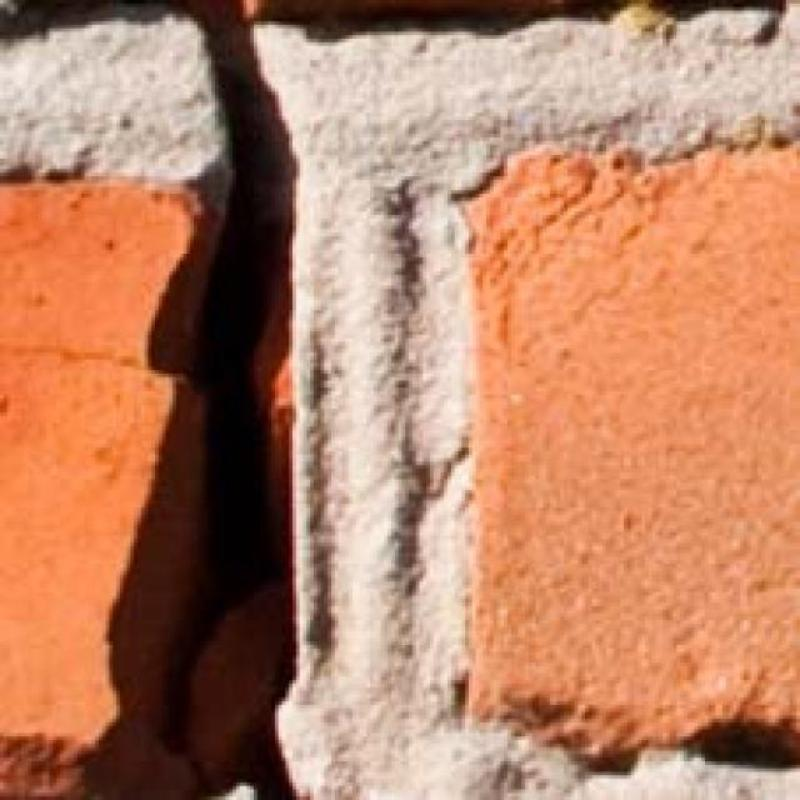pothole: (158, 0, 297, 744), (239, 725, 295, 800)
